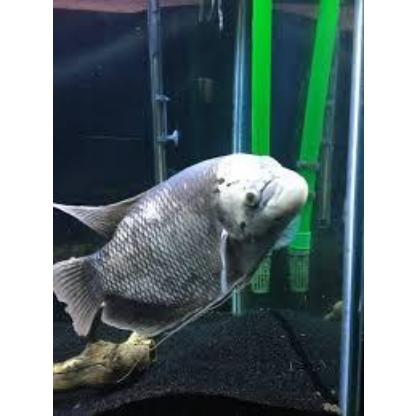gurame: (52, 150, 312, 336)
